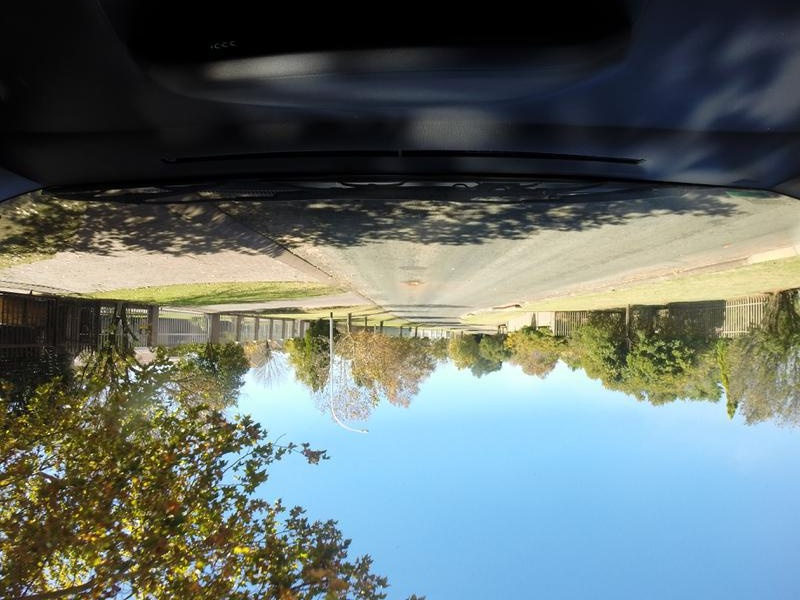pothole: (398, 270, 434, 293)
